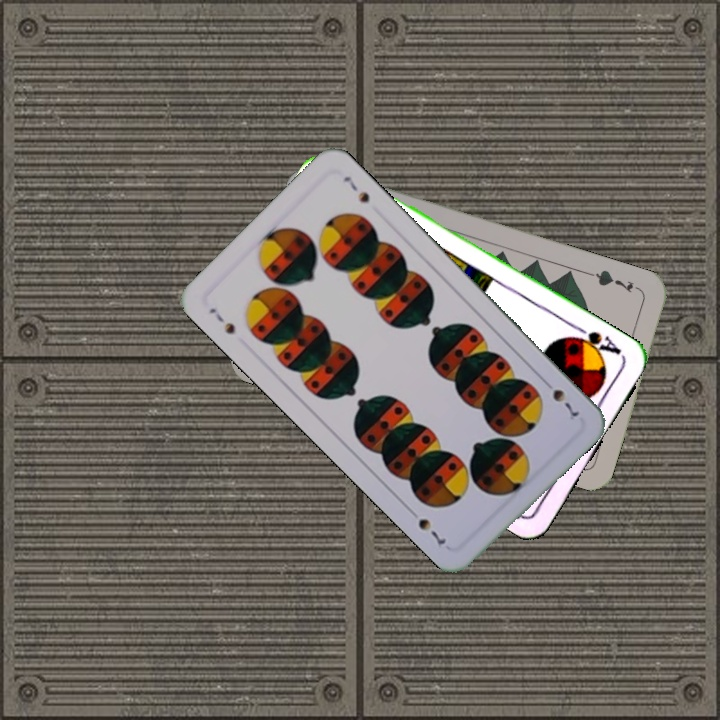G7: (586, 266, 636, 296)
S7: (538, 374, 582, 420), (204, 303, 238, 337)
SA: (566, 321, 624, 361)
